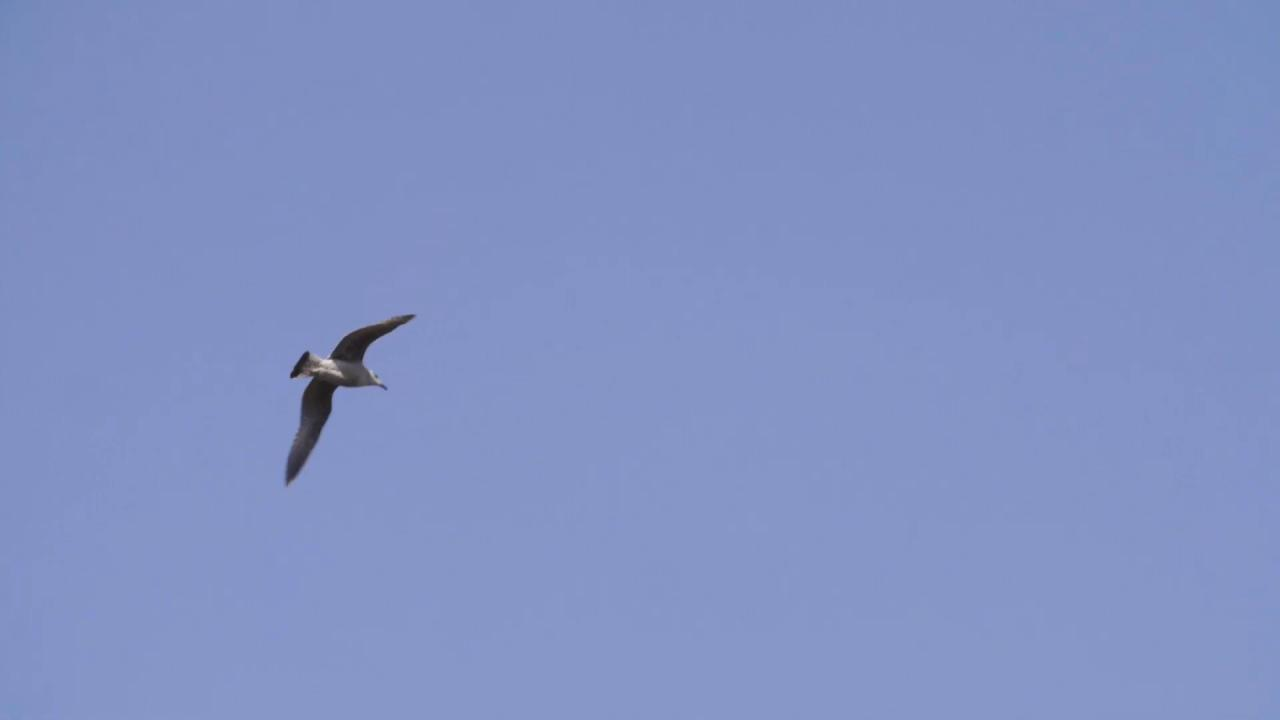Bird: (268, 300, 429, 495)
